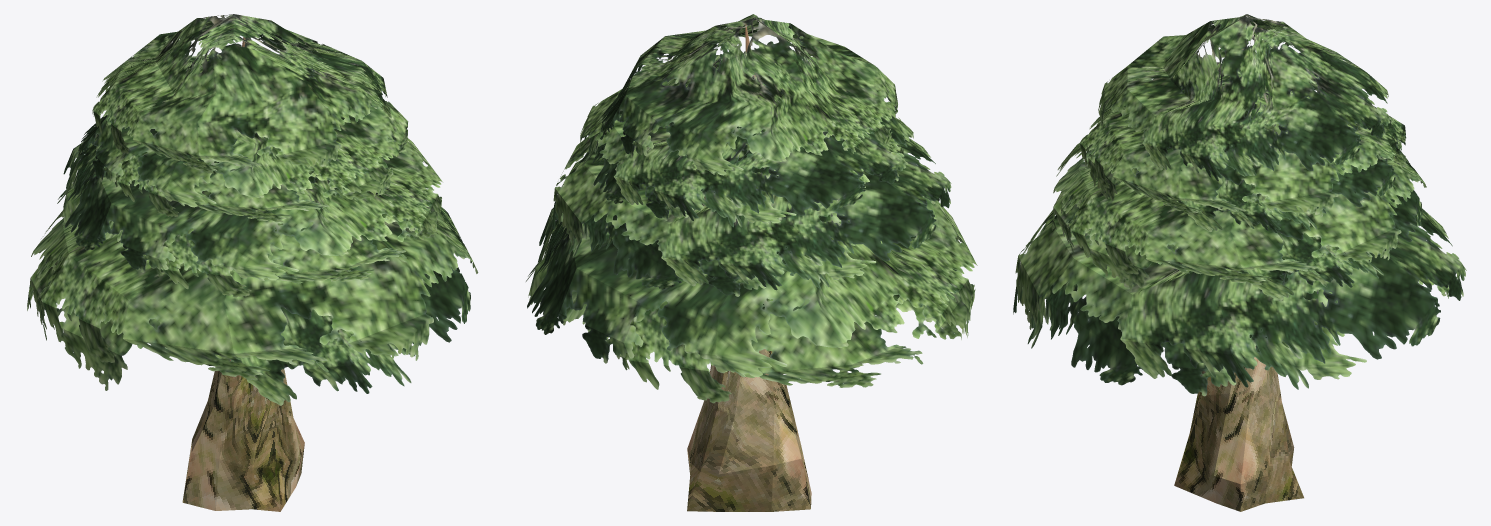
Rendered from Tree_C1.fbx.
The picture shows the model from 3 angles, left to right: view 1: azimuth 30°, elevation 25°; view 2: azimuth 150°, elevation 25°; view 3: azimuth 270°, elevation 25°; orthographic projection. The views are drawn at different scales.
Parts seen in each view (by area): view 1: Tree_C1; view 2: Tree_C1; view 3: Tree_C1.
Part boxes in pixels (bbox=[...]): Tree_C1: bbox=[27, 14, 478, 511]; Tree_C1: bbox=[526, 14, 977, 511]; Tree_C1: bbox=[1013, 14, 1466, 511].
Bounding box in the file's own units: 9.72 × 10.89 × 9.91.
